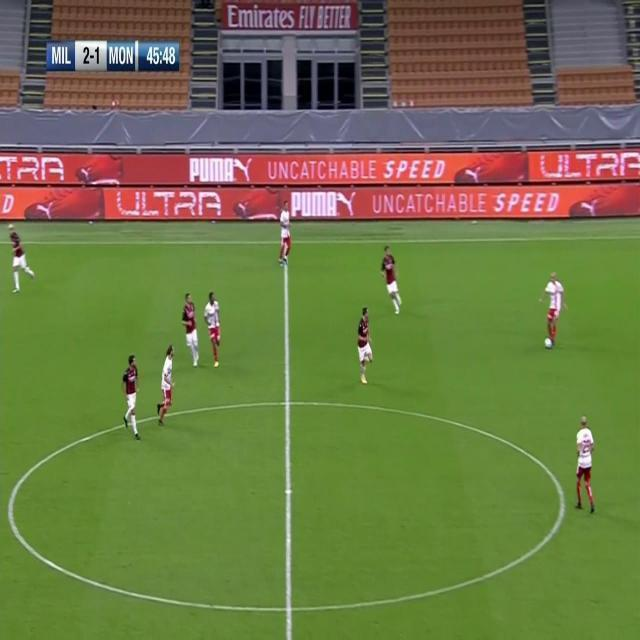ball: (544, 336, 554, 350)
player: (574, 412, 599, 514), (540, 269, 568, 348), (9, 218, 36, 293), (120, 352, 142, 441), (379, 244, 404, 315), (155, 345, 176, 428), (180, 291, 201, 367), (356, 303, 375, 385), (204, 290, 223, 368), (276, 200, 292, 266)
